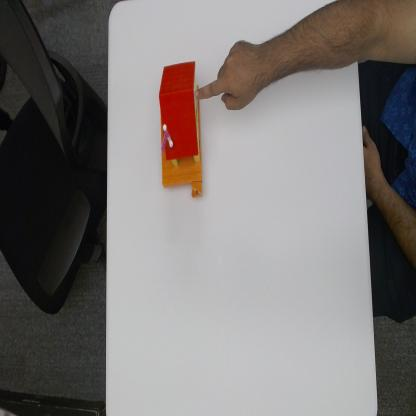Arm: (262, 4, 354, 75)
Hand: (195, 35, 263, 121)
House: (158, 58, 201, 200)
